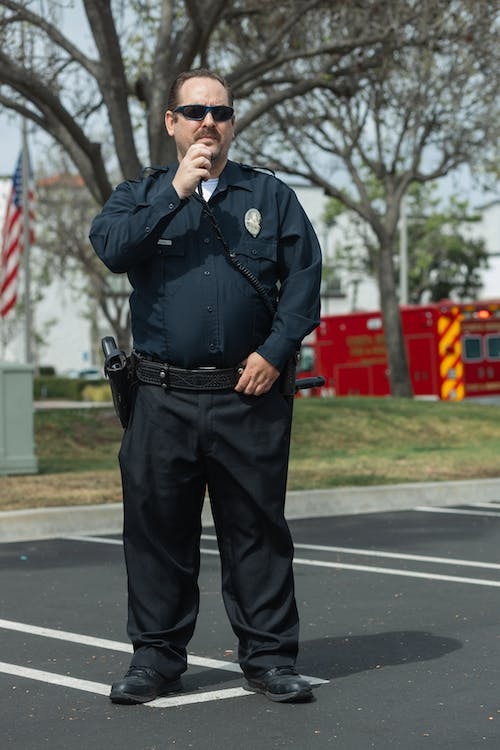gun: (99, 331, 132, 432)
